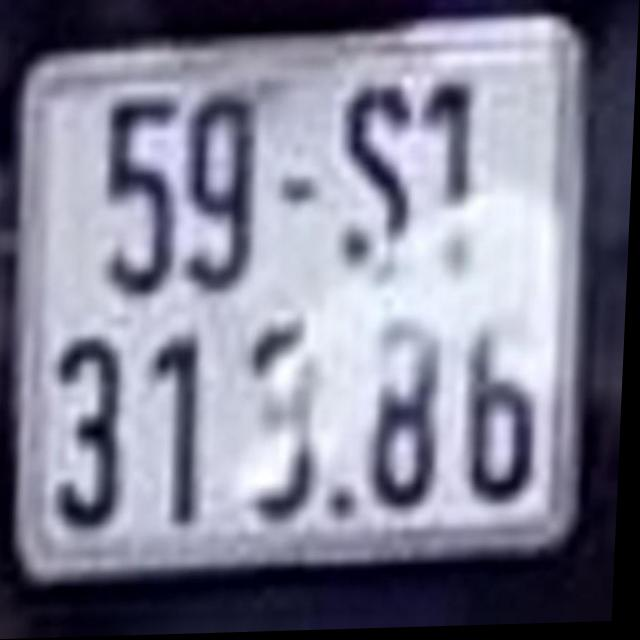1: (154, 327, 211, 534), (424, 87, 478, 283)
3: (53, 334, 135, 534)
5: (101, 92, 186, 290)
6: (470, 322, 544, 504)
8: (247, 314, 329, 537), (370, 325, 440, 505)
9: (184, 85, 262, 291)
S: (339, 92, 418, 269)
